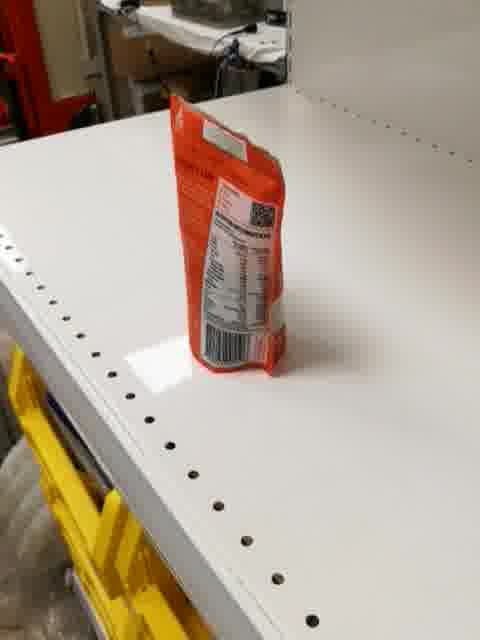whitechia: (168, 92, 290, 378)
